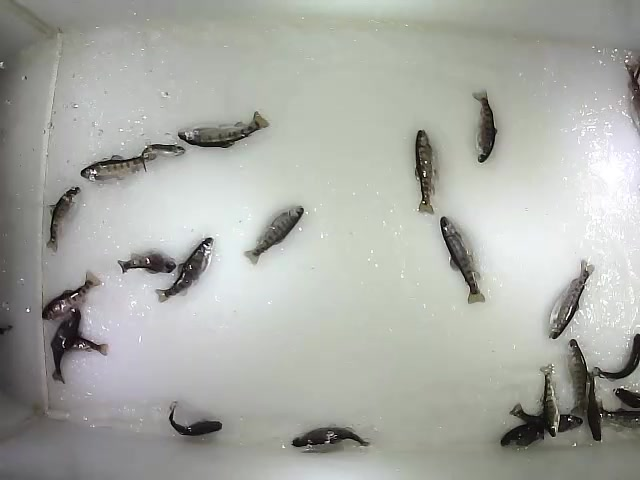fish: (438, 215, 489, 306), (545, 258, 597, 340), (155, 236, 216, 304), (241, 205, 305, 268), (177, 110, 272, 150), (41, 268, 102, 321), (79, 151, 157, 185), (45, 185, 82, 255), (50, 304, 81, 385), (590, 332, 640, 382), (509, 402, 583, 434), (167, 399, 224, 437), (471, 87, 498, 165), (413, 128, 436, 216), (290, 425, 372, 448), (565, 338, 588, 418), (540, 362, 561, 438), (500, 419, 550, 450), (139, 142, 187, 174), (116, 250, 177, 275), (49, 334, 110, 358), (585, 371, 603, 444)
